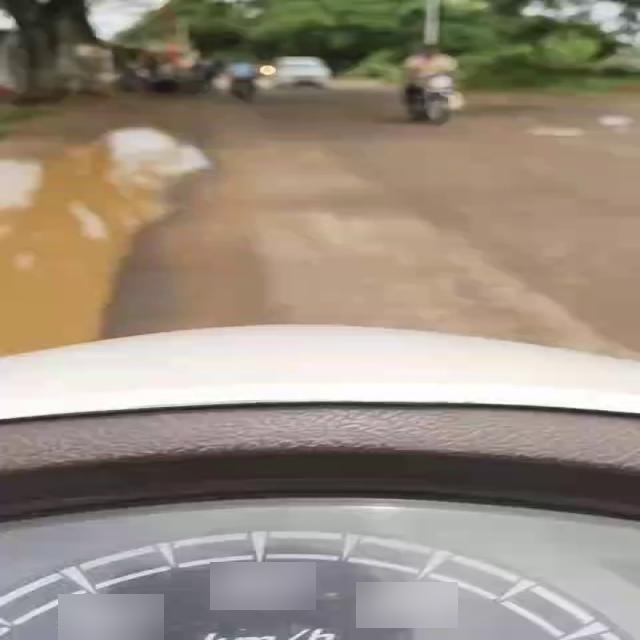pothole: (0, 126, 206, 353)
